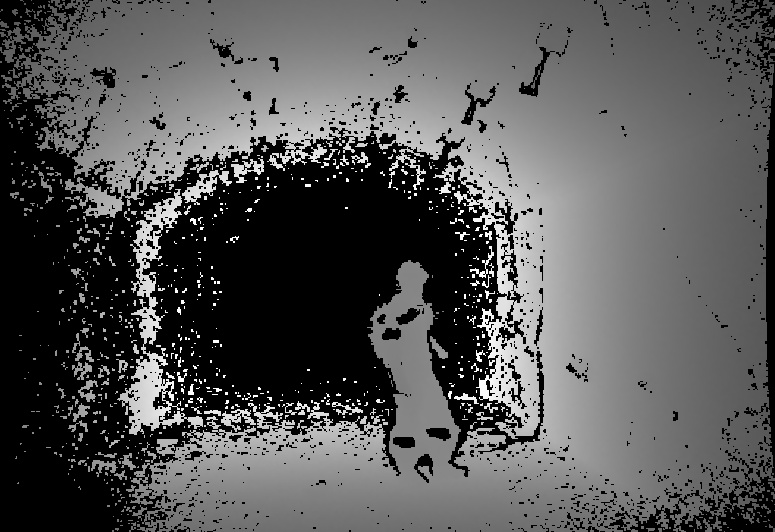person: (370, 258, 465, 484)
